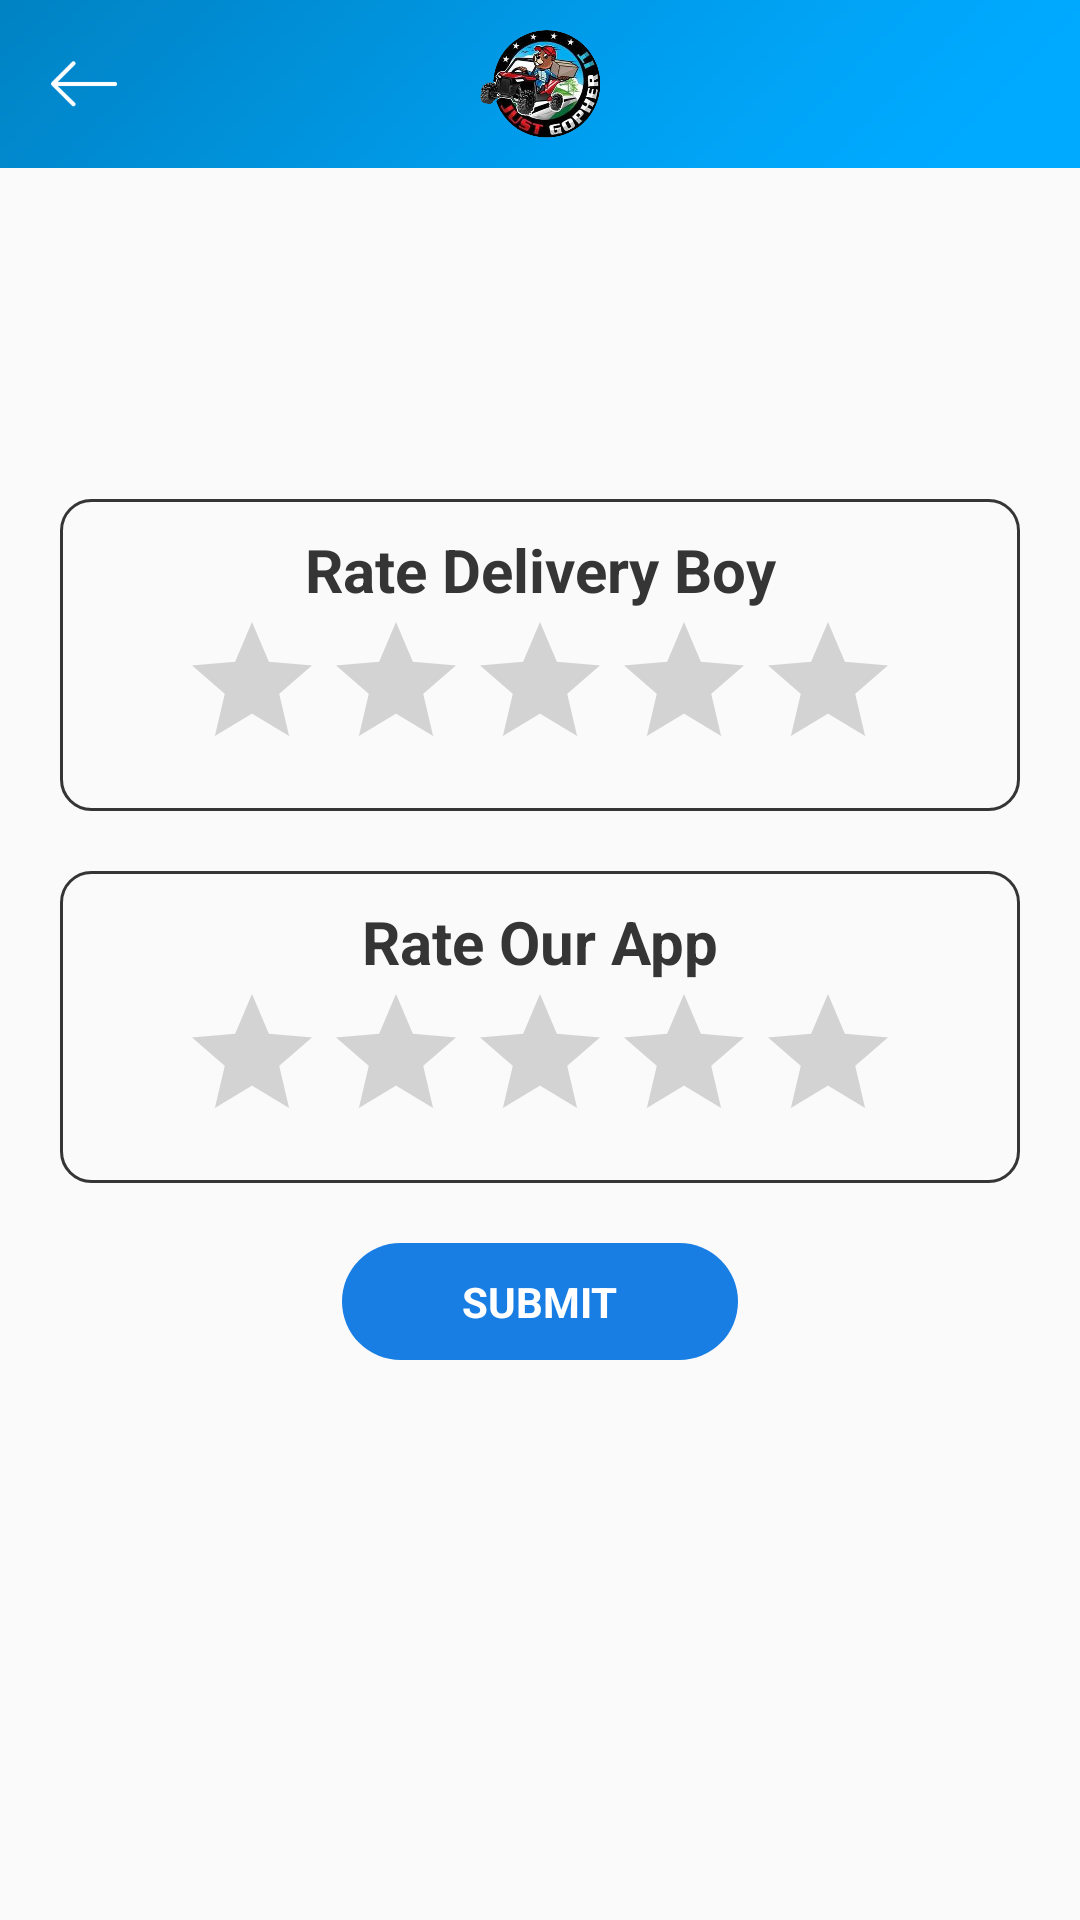

Icon click points for this 1080 × 1920 phone screenshot, format [x,y]:
back: [84,84]
